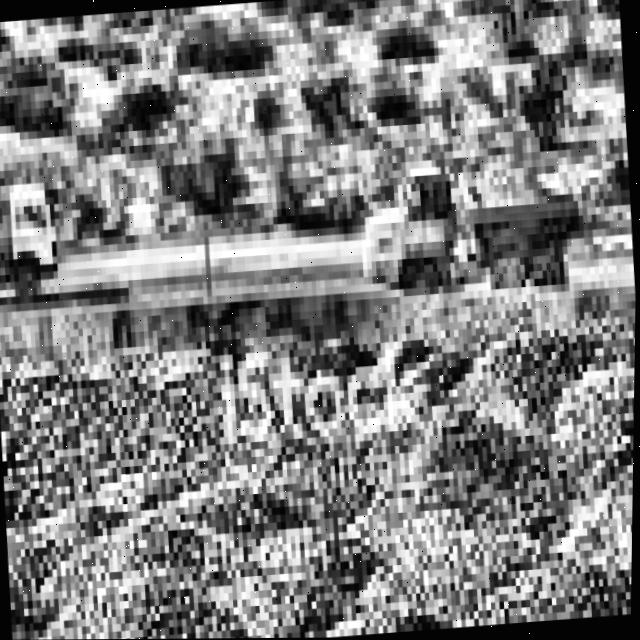dump_truck: (343, 104, 599, 381)
